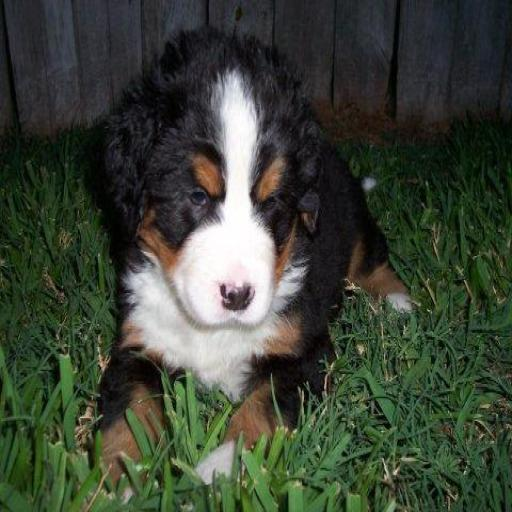dog_face: (143, 100, 324, 331)
